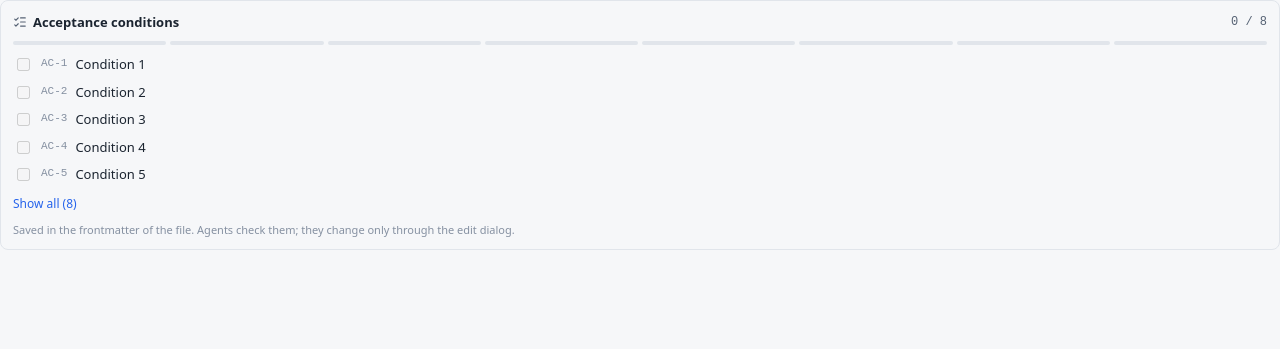
Test: AcceptanceView › shows at most six conditions and opens the rest with a button
The image size is (1280, 349).
Check: the text "Condition 6" is not shown
Click the button "Show all (8)" at (45, 203), box [13, 194, 77, 212]
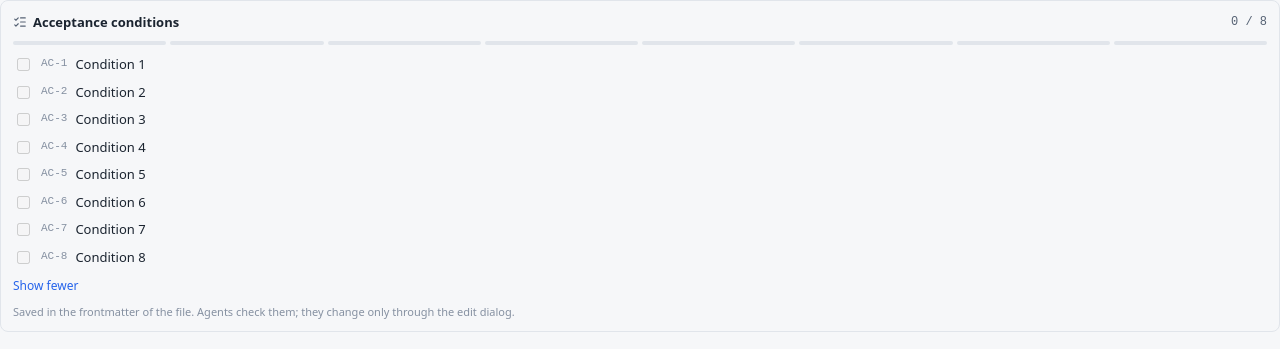
Check: the text "Condition 8" is shown, box [75, 248, 146, 266]
